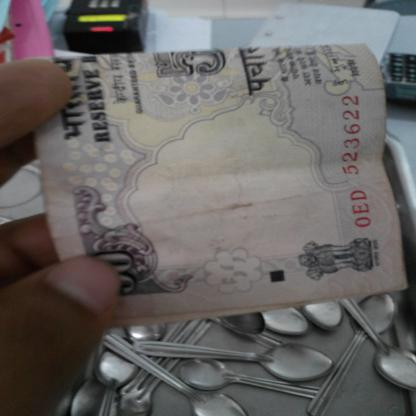Old50Front: (21, 43, 410, 327)
